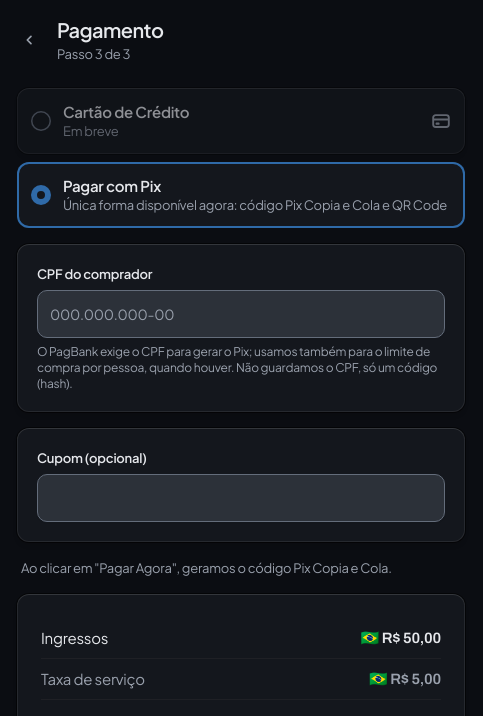
Test case: Pagamento: cupom e recusas do servidor › depois do pedido criado, o CPF fica travado (Pix falhou: o novo clique reaproveita o pedido)
Type "52998224725" into the field labelled "CPF do comprador". click: (241, 314)
box: 37,290 -> 445,338
(page scrolled)
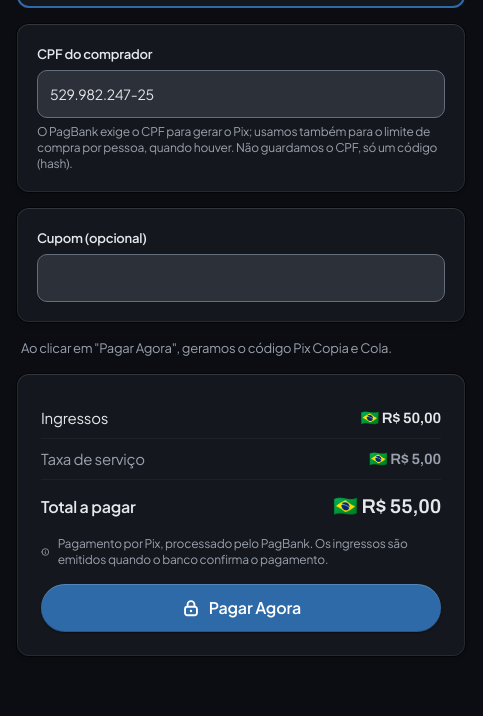
Click the button "Pagar Agora". click: (241, 608)
box: 41,584 -> 441,632
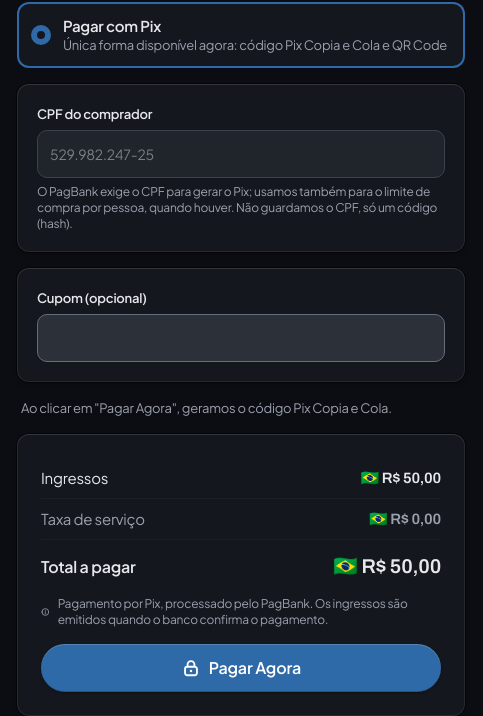
Expected: the field labelled "CPF do comprador" is disabled, 37,130 -> 445,178
